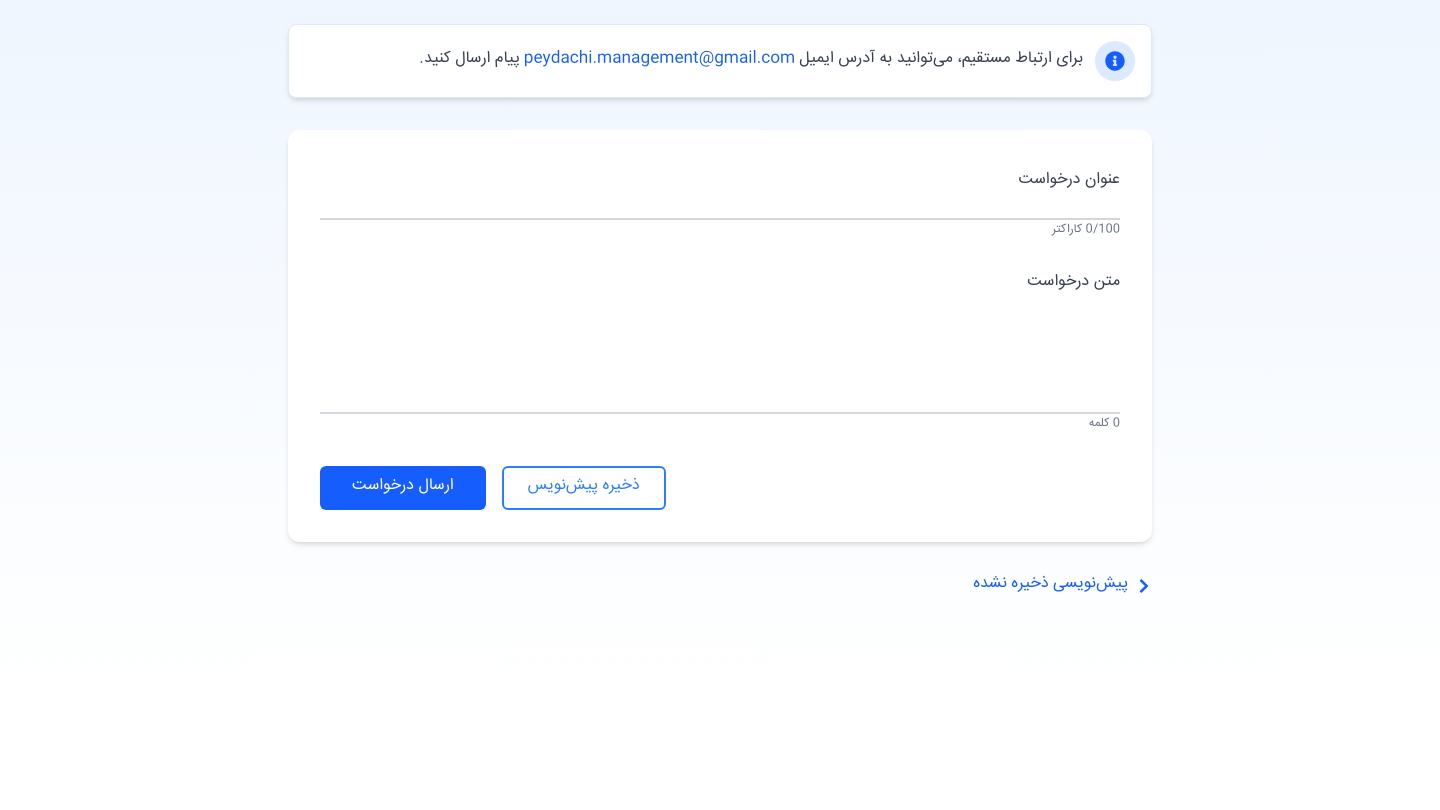
SendReport Component › saves draft when clicking save draft button
Type "پیش‌نویس عنوان" into the field labelled "عنوان درخواست" at (720, 191), box [320, 162, 1120, 220]
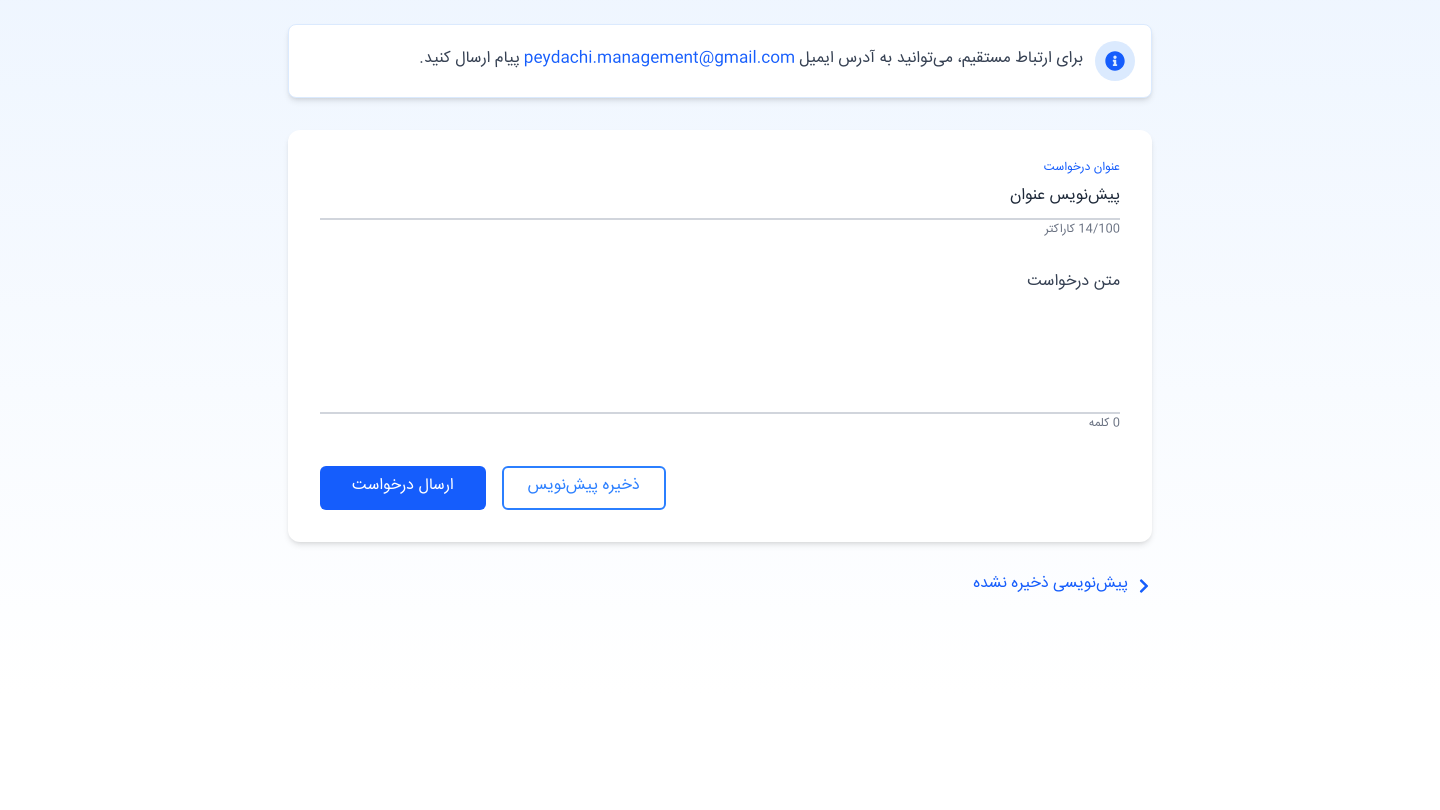
Type "محتوای پیش‌نویس" into the text box labelled "متن درخواست" at (720, 339), box [320, 264, 1120, 414]
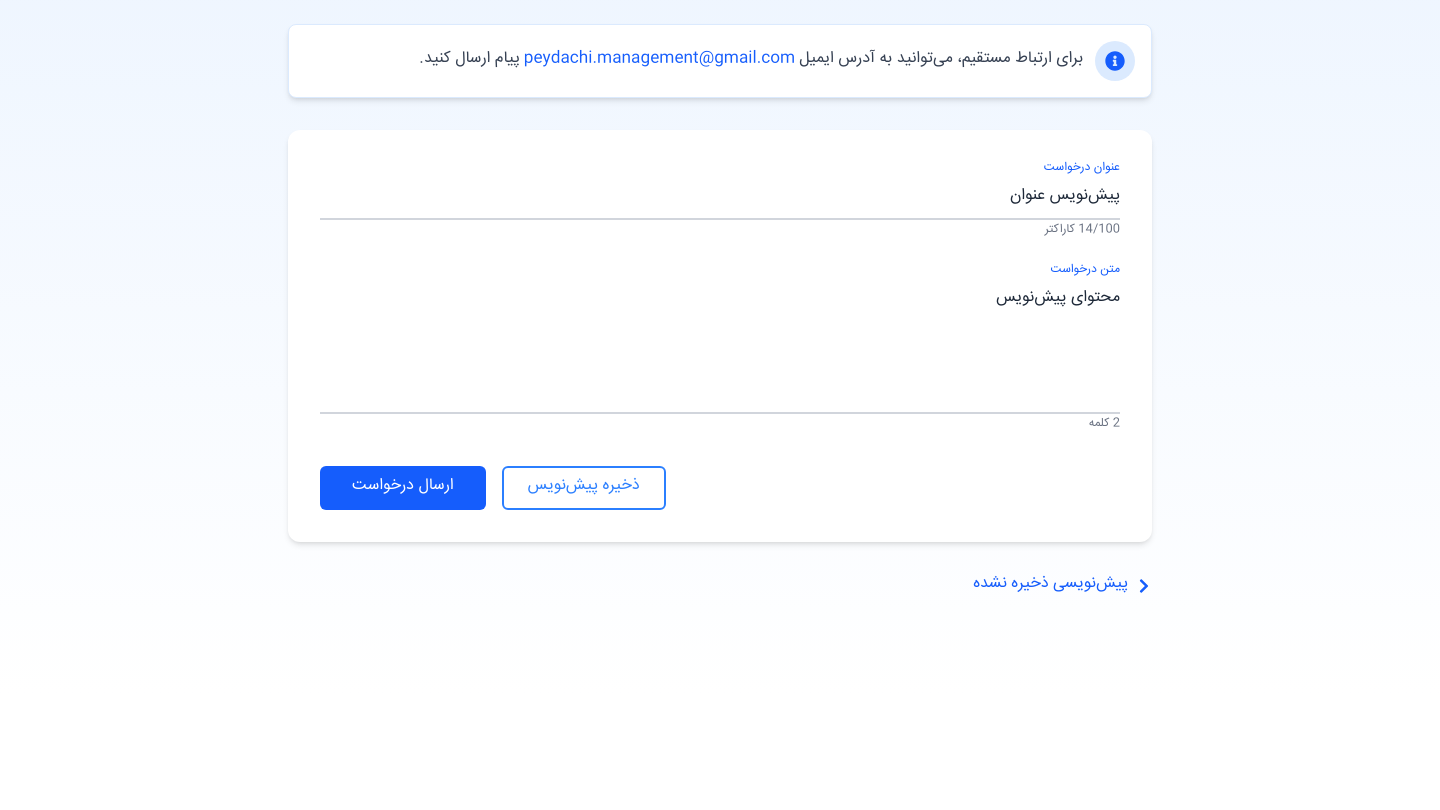
Click the button "ذخیره پیش‌نویس" at (584, 488), box [502, 466, 666, 510]
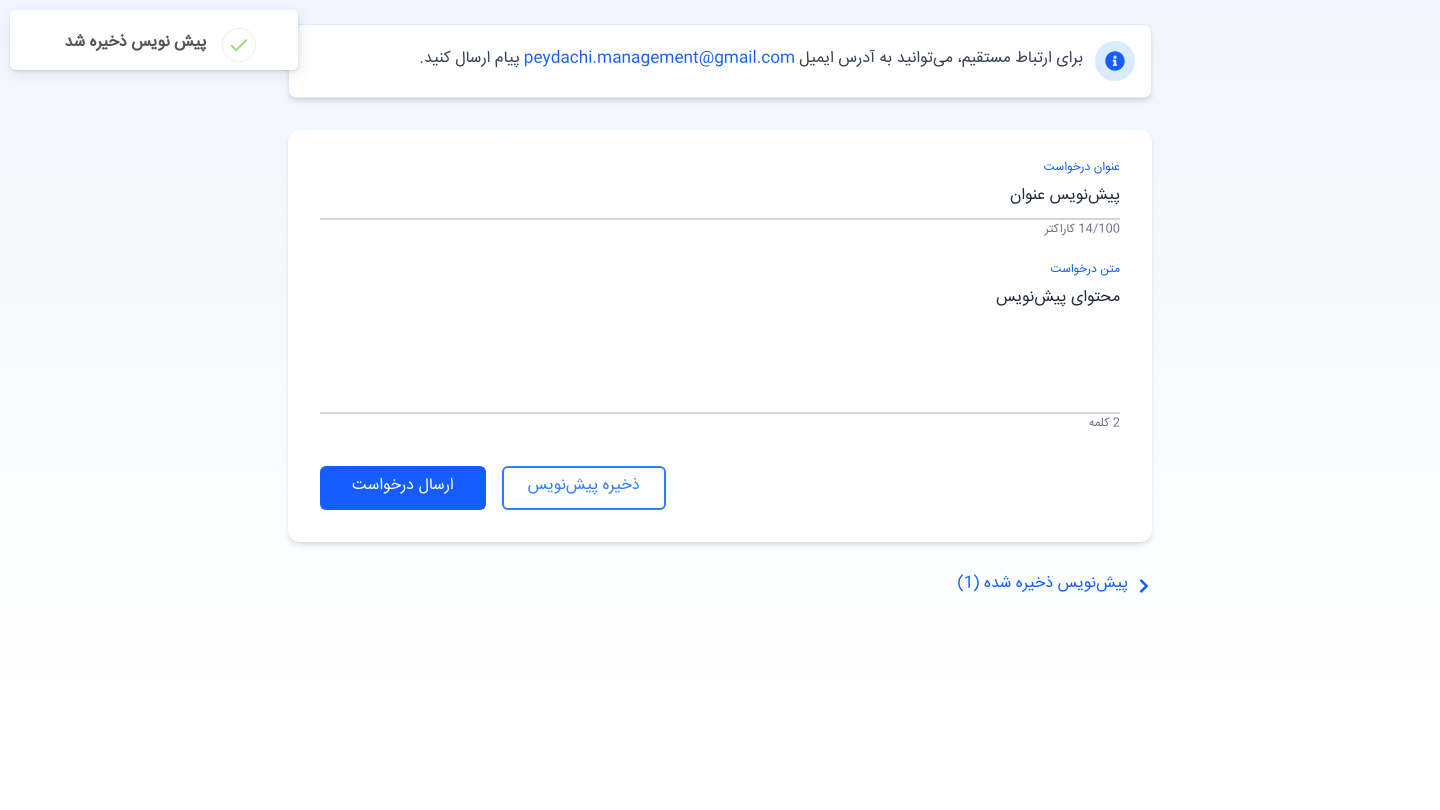
Now the button "پیش‌نویس ذخیره شده (1)" is shown, box [958, 574, 1152, 598]
